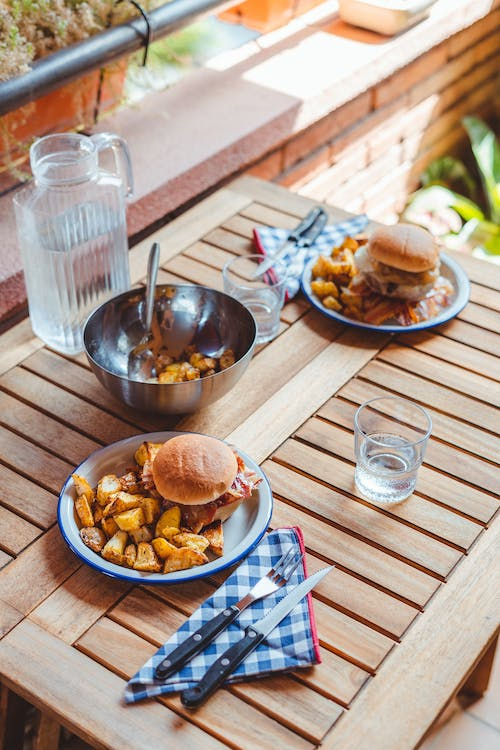knife: (178, 560, 338, 710), (251, 201, 324, 280)
